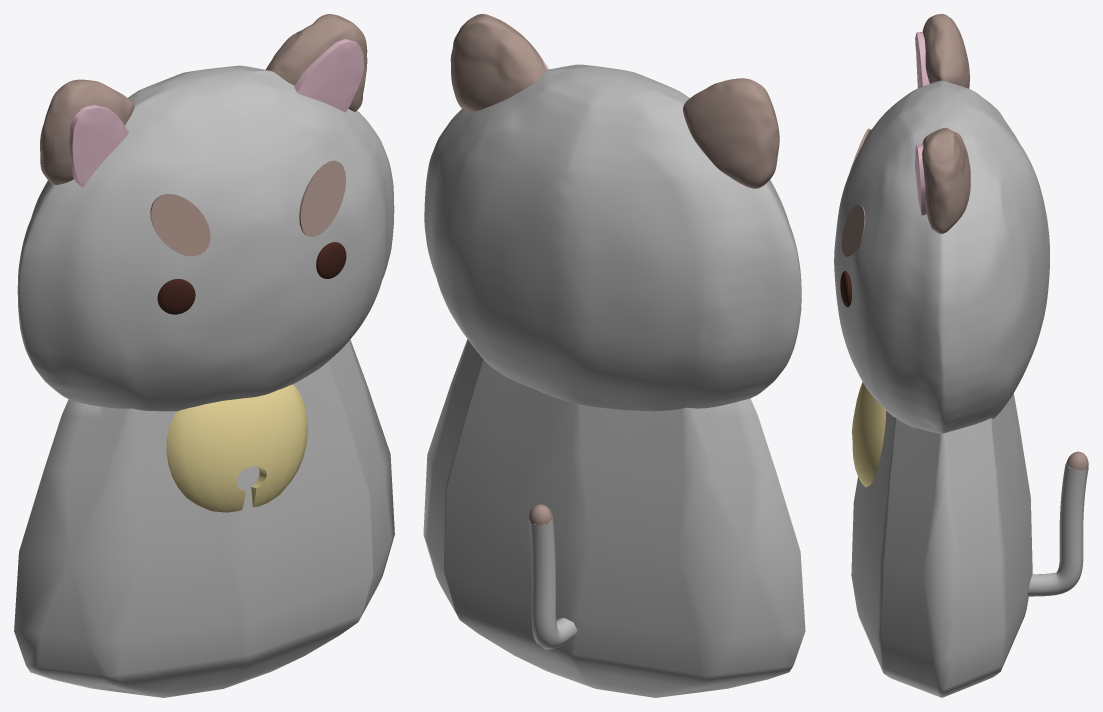
The model's file is puppycatWIP.glb.
The picture shows the model from 3 angles, left to right: view 1: azimuth 30°, elevation 25°; view 2: azimuth 150°, elevation 25°; view 3: azimuth 270°, elevation 25°; orthographic projection. The views are drawn at different scales.
Parts seen in each view (by area): view 1: body2, bell1; view 2: body2; view 3: body2, bell1.
Part boxes in pixels (x1,y1,x2,y2): body2: [14, 14, 394, 697]; bell1: [166, 384, 307, 512]; body2: [423, 14, 805, 697]; body2: [834, 14, 1088, 697]; bell1: [851, 382, 886, 487].
Bounding box in the file's own units: 0.0425 × 0.0678 × 0.0263.
